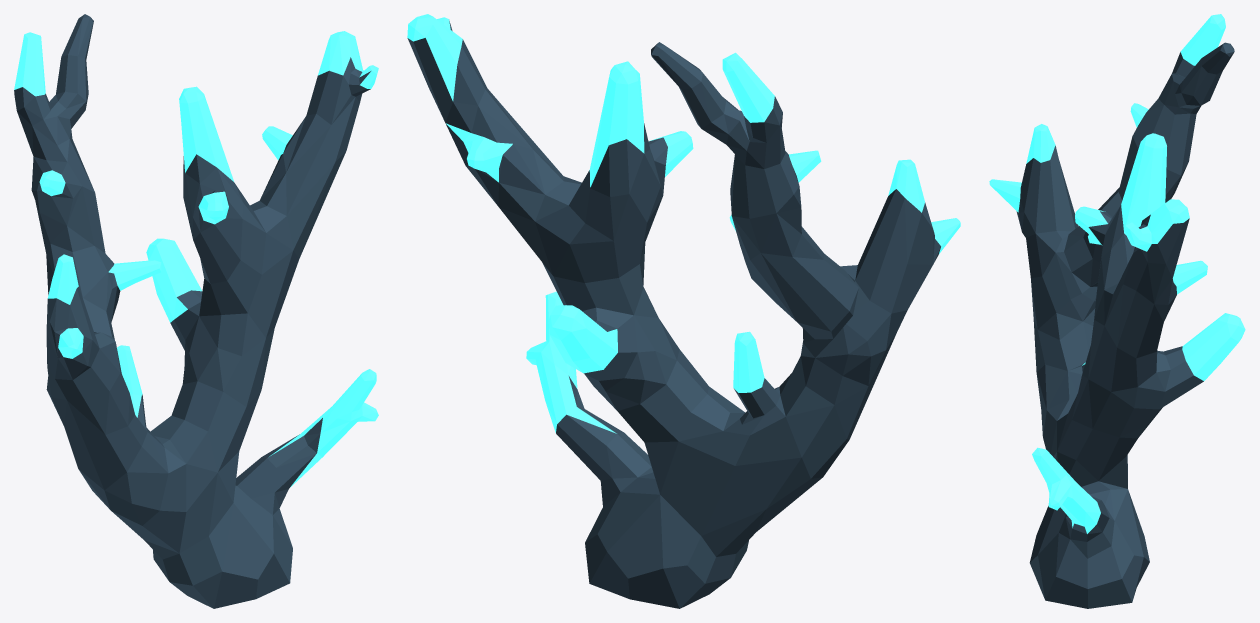
The model's file is SM_Flora_04.glb.
3 views of the same model, side by side, from view 1: azimuth 30°, elevation 25°; view 2: azimuth 150°, elevation 25°; view 3: azimuth 270°, elevation 25° (orthographic). The views are drawn at different scales.
Parts seen in each view (by area): view 1: SM_Flora_04; view 2: SM_Flora_04; view 3: SM_Flora_04.
Part boxes in pixels (box(x1,y1,x2,y2)): SM_Flora_04: box(14, 14, 378, 608); SM_Flora_04: box(407, 14, 960, 608); SM_Flora_04: box(989, 14, 1245, 608).
Bounding box in the file's own units: 1.08 × 1.45 × 0.6521.
Materials: 2 (1 with a texture image).
